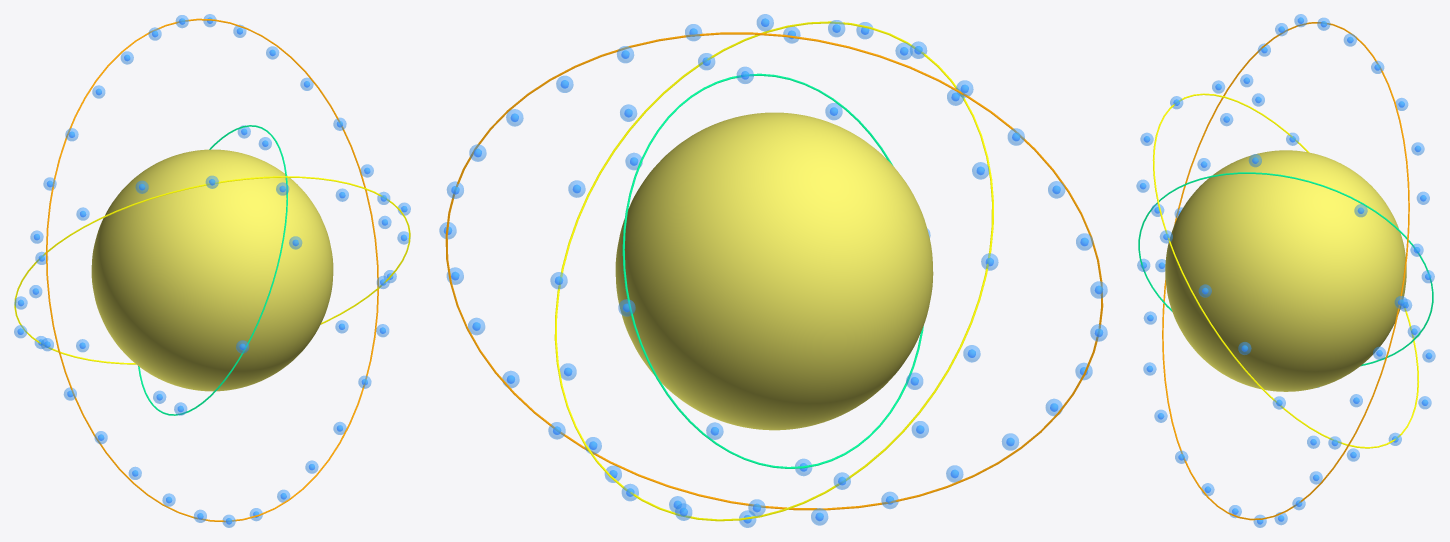
The picture shows the model from 3 angles, left to right: view 1: azimuth 30°, elevation 25°; view 2: azimuth 150°, elevation 25°; view 3: azimuth 270°, elevation 25°; orthographic projection. The views are drawn at different scales.
Visible parts, largest first — view 1: La, object 61, object 24, object 7; view 2: La, object 61, object 24, object 7; view 3: La, object 61, object 24, object 7.
Part boxes in pixels (x1,y1,x2,y2): La: [91, 149, 333, 391]; object 61: [46, 18, 378, 522]; object 24: [14, 176, 410, 364]; object 7: [138, 125, 287, 415]; La: [615, 112, 933, 430]; object 61: [445, 32, 1103, 510]; object 24: [554, 21, 993, 521]; object 7: [622, 73, 923, 468]; La: [1165, 150, 1406, 391]; object 61: [1162, 22, 1409, 520]; object 24: [1152, 93, 1418, 448]; object 7: [1138, 172, 1433, 366].
Bounding box in the file's own units: 5.87 × 5.92 × 3.58.
